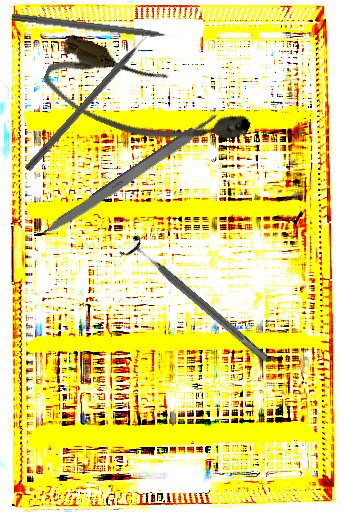Cannula: (36, 30, 257, 175)
Fixation Ring: (118, 231, 276, 371)
Hook Surgical: (24, 28, 157, 173), (11, 12, 184, 44)
Scalpel Handle: (39, 110, 224, 242)
